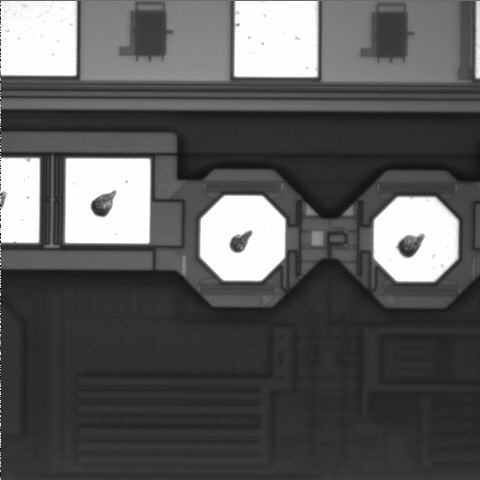pad: (65, 158, 151, 244), (200, 195, 286, 281), (373, 197, 459, 282)
